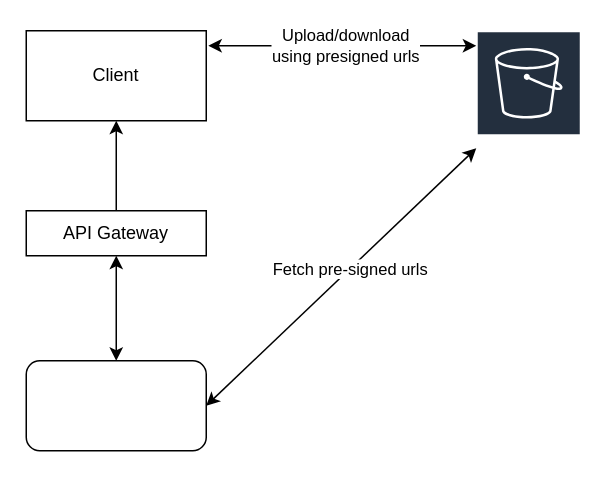
Some shapes in this 608 by 477 pixel diagram are drawn without their labels. Each missing label, with the box of its shape:
Amazon S3: (475, 29, 581, 166)
Lambda Go lang API: (25, 359, 206, 451)
